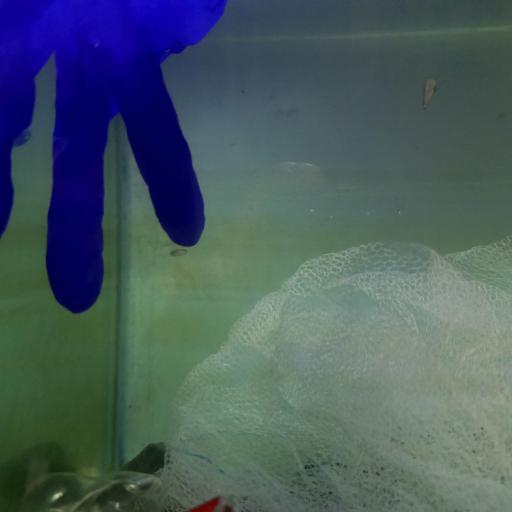glove: (0, 0, 226, 313)
net: (160, 237, 512, 512)
